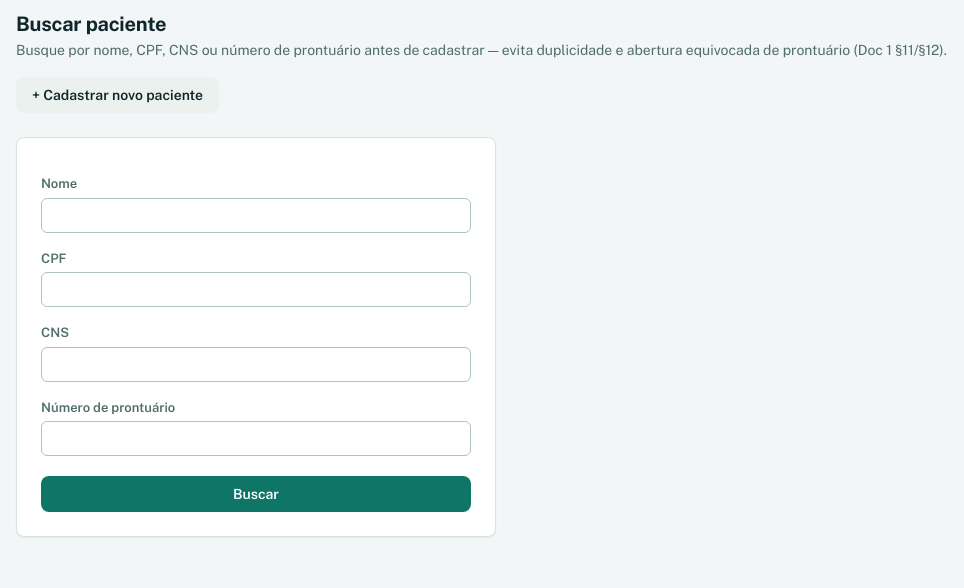
Scenario: PatientSearchPage › 2. mostra estado de carregamento durante a busca
Type "Maria" into the field labelled "Nome" at [256, 215], box [41,198,471,232]
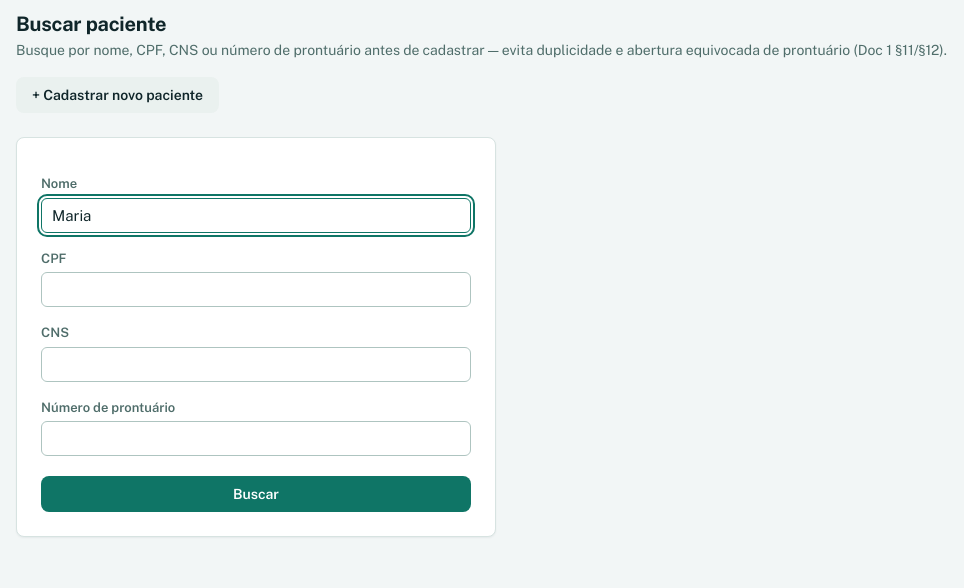
Click the button "Buscar" at [256, 494], box [41,476,471,512]
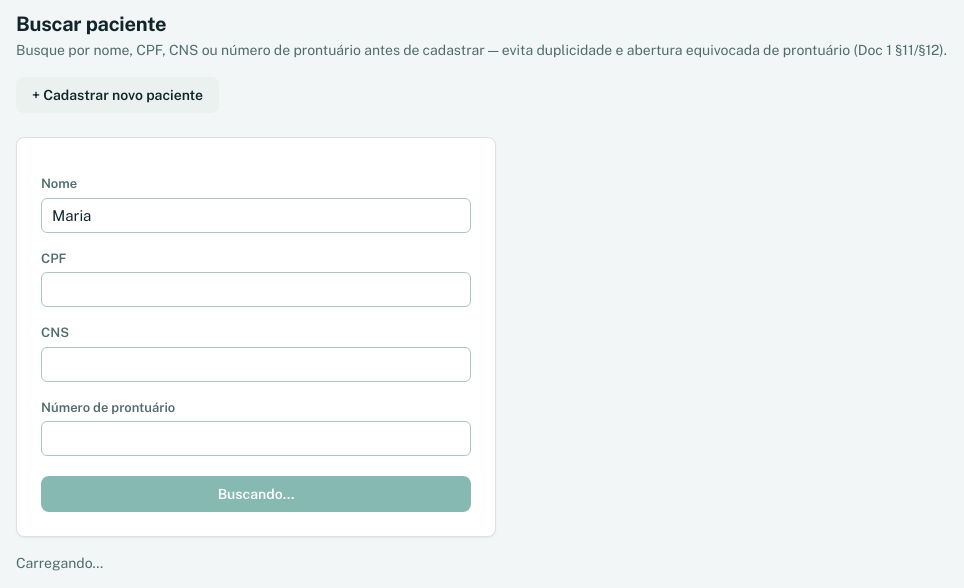
Now the text "Carregando…" is shown, box [16,555,103,571]
